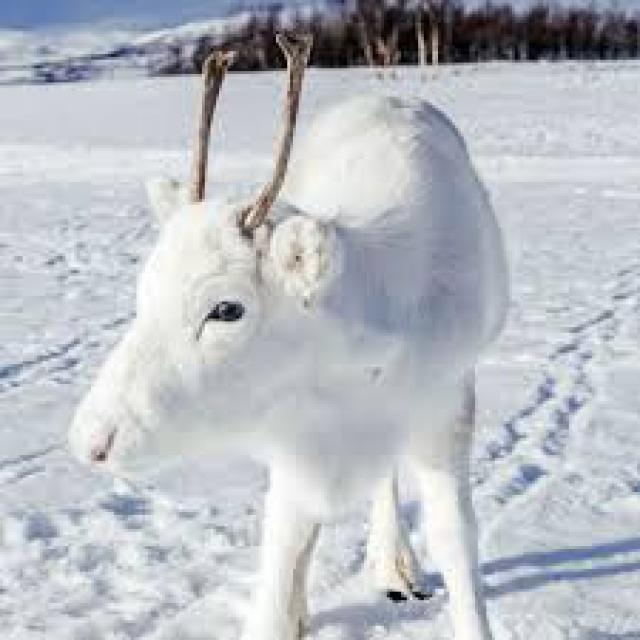Reindeer: (69, 31, 513, 640)
